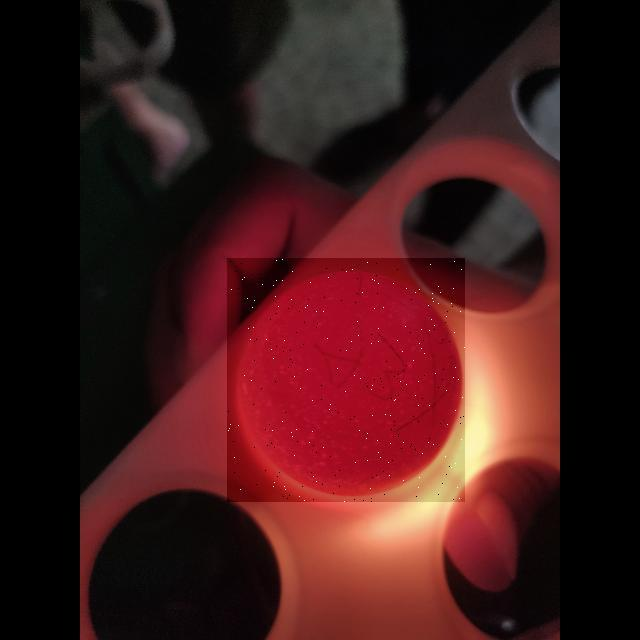Infertile: (227, 258, 465, 502)
